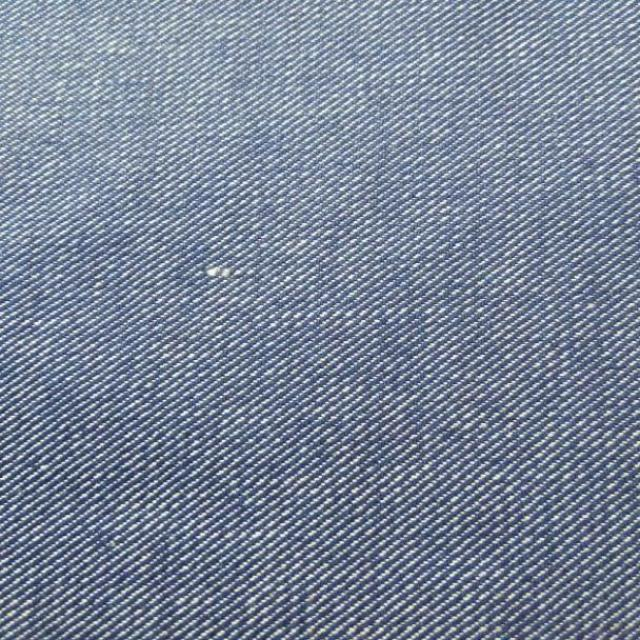Knot: (205, 265, 246, 279)
